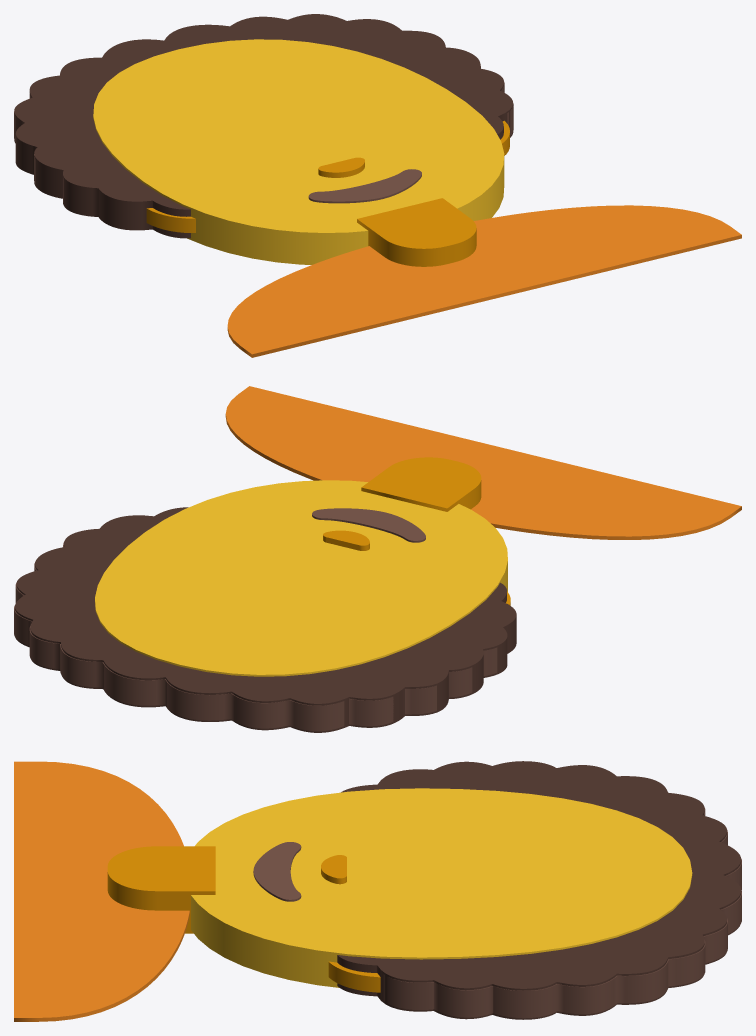
File: emoji_u1f9d1_200d_1f9b1.glb
The picture shows the model from 3 angles, top to bottom: view 1: azimuth 30°, elevation 25°; view 2: azimuth 150°, elevation 25°; view 3: azimuth 270°, elevation 25°; orthographic projection. The views are drawn at different scales.
Parts seen in each view (by area): view 1: emoji_u1f9d1_200d_1f9b1; view 2: emoji_u1f9d1_200d_1f9b1; view 3: emoji_u1f9d1_200d_1f9b1.
Boxes of the visible parts, x1,y1,x2,y2 form: emoji_u1f9d1_200d_1f9b1: [14, 14, 741, 357]; emoji_u1f9d1_200d_1f9b1: [14, 386, 741, 732]; emoji_u1f9d1_200d_1f9b1: [14, 761, 741, 1021].
Size of the model in its own units: 0.0284 by 0.0024 by 0.0341.
